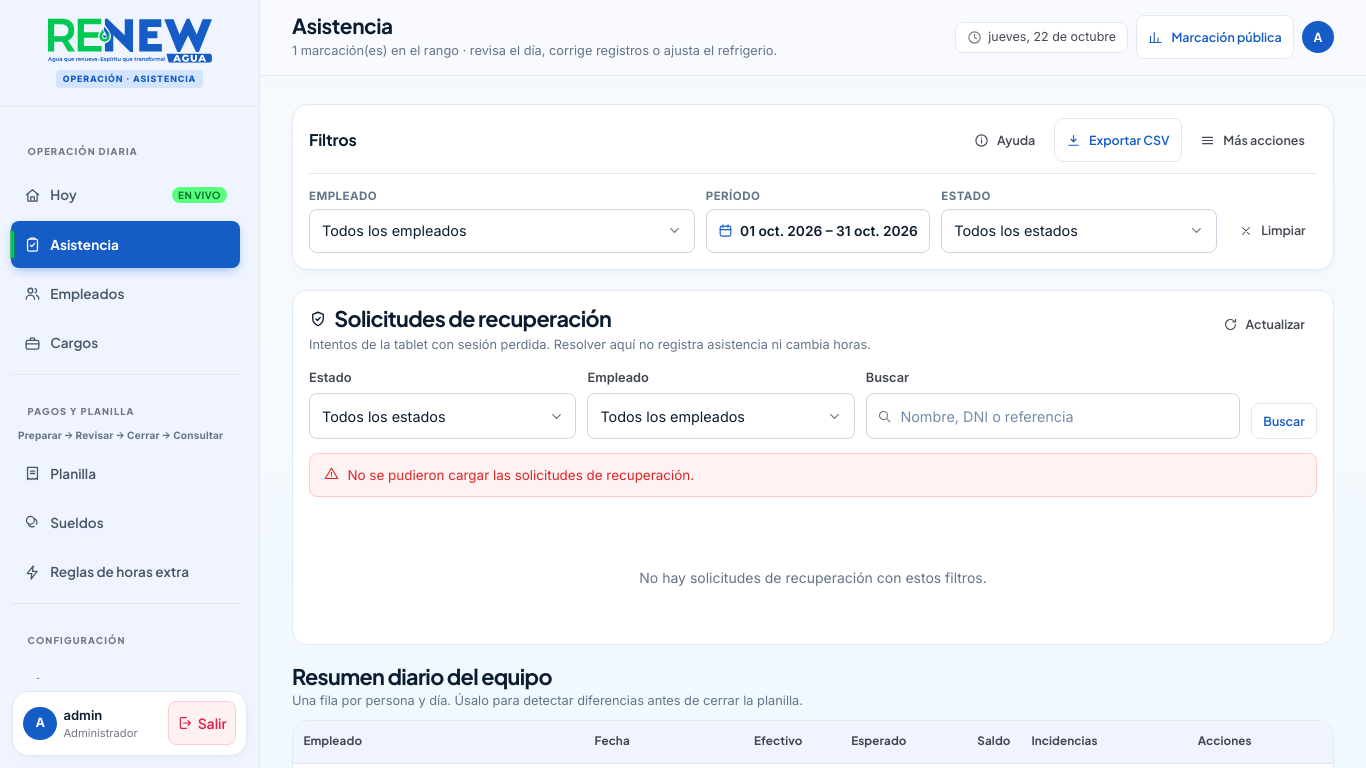
it: Admin — barra superior de asistencia › el período muestra el rango actual y revela Desde/Hasta solo al abrirlo, sin botón Aplicar
Click the button "01 oct. 2026 – 31 oct. 2026": coordinates (818, 231) [706, 209, 930, 253]
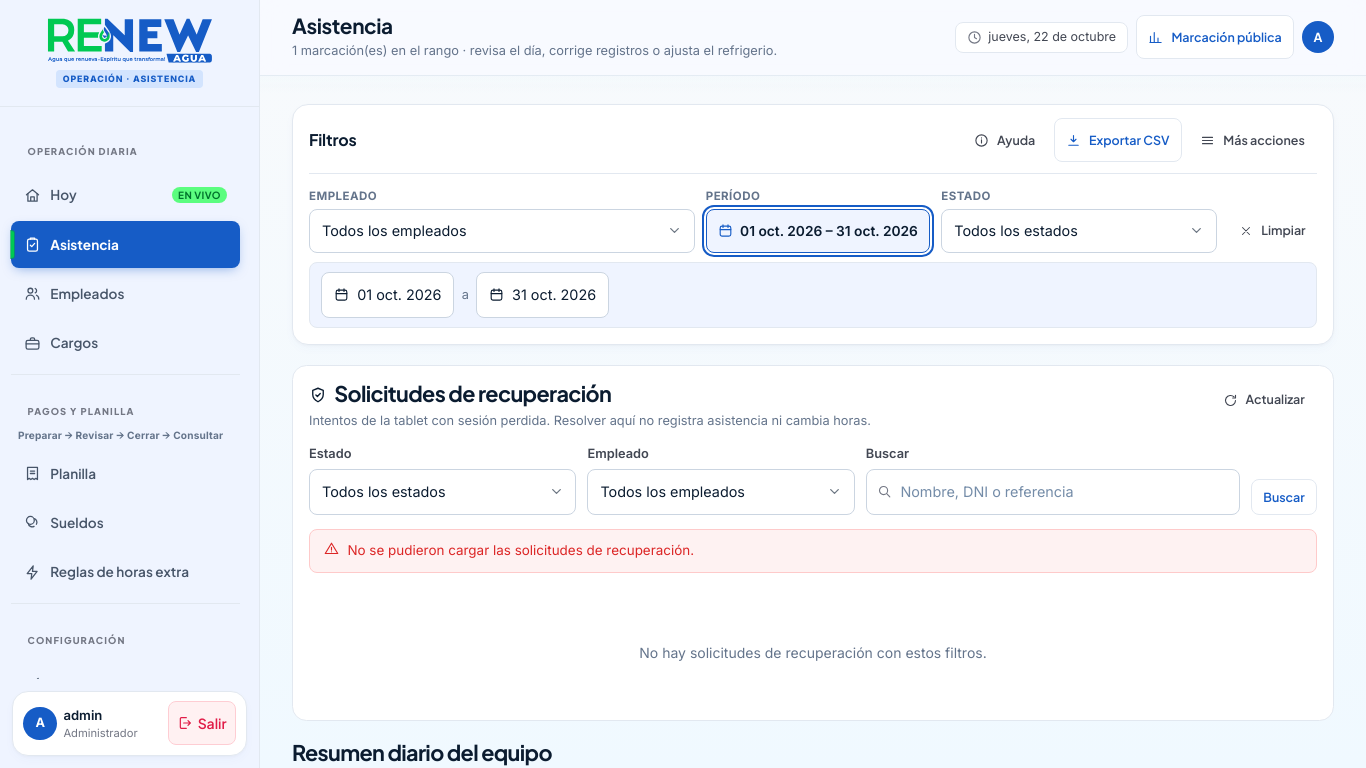
Result: the button with aria-label "Fecha desde" shows "01" at [321, 272, 454, 318]
Result: the button with aria-label "Fecha hasta" shows "31" at [476, 272, 609, 318]
